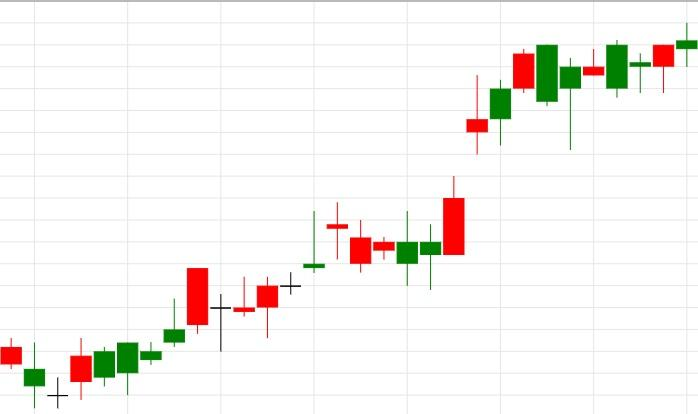bearish_engulfing_fall: (397, 40, 628, 289), (396, 44, 559, 290)
